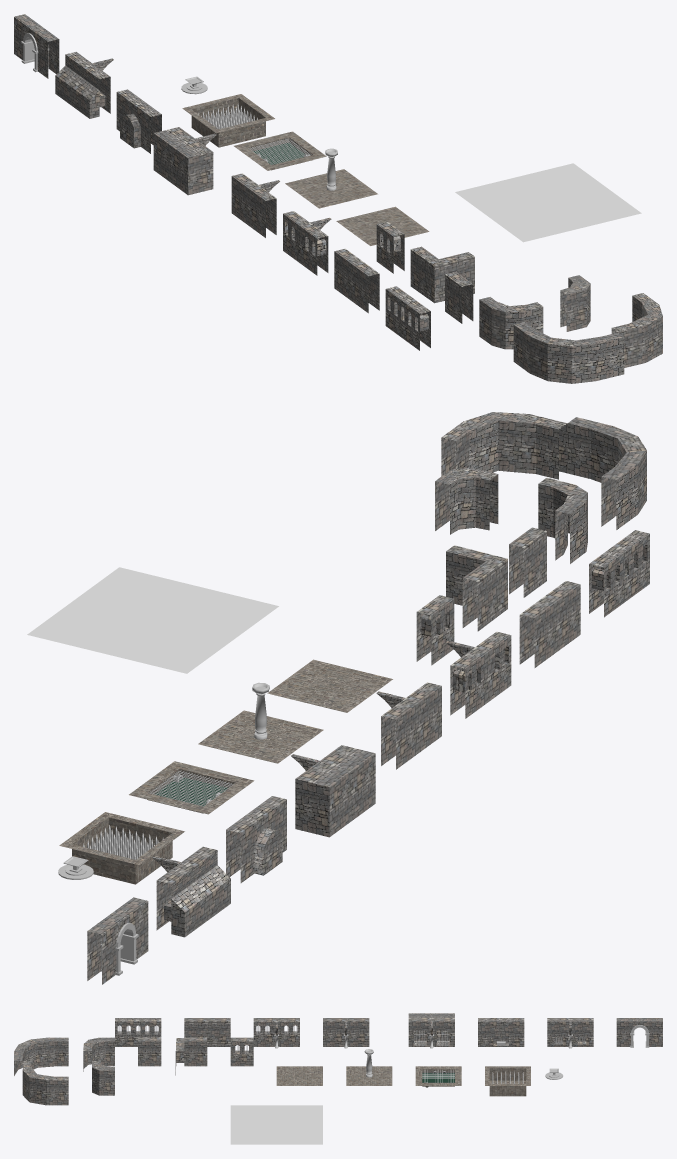
File: dongon_rooms_modular.fbx
3 renders of one model, top to bottom at view 1: azimuth 30°, elevation 25°; view 2: azimuth 150°, elevation 25°; view 3: azimuth 270°, elevation 25°, orthographic. The views are drawn at different scales.
Visible parts, largest first — view 1: AllTextures_mergedObject.018, AllTextures_mergedObject.020, AllTextures_mergedObject.007, AllTextures_mergedObject.012, AllTextures_mergedObject.013, AllTextures_mergedObject.025, AllTextures_mergedObject.011, AllTextures_mergedObject.001, AllTextures_mergedObject.015, AllTextures_mergedObject.010, AllTextures_mergedObject.009, AllTextures_mergedObject.003 (+8 smaller); view 2: AllTextures_mergedObject.018, AllTextures_mergedObject.025, AllTextures_mergedObject.020, AllTextures_mergedObject.007, AllTextures_mergedObject.012, AllTextures_mergedObject.013, AllTextures_mergedObject.001, AllTextures_mergedObject.011, AllTextures_mergedObject.010, AllTextures_mergedObject.009, AllTextures_mergedObject.006, AllTextures_mergedObject.003 (+8 smaller); view 3: AllTextures_mergedObject.018, AllTextures_mergedObject.007, AllTextures_mergedObject.020, AllTextures_mergedObject.025, AllTextures_mergedObject.013, AllTextures_mergedObject.009, AllTextures_mergedObject.006, AllTextures_mergedObject.010, AllTextures_mergedObject.012, AllTextures_mergedObject.002, AllTextures_mergedObject.014, AllTextures_mergedObject.004 (+8 smaller).
Part boxes in pixels (bbox=[...]): AllTextures_mergedObject.018: bbox=[455, 163, 641, 242]; AllTextures_mergedObject.020: bbox=[513, 322, 624, 383]; AllTextures_mergedObject.007: bbox=[153, 127, 216, 195]; AllTextures_mergedObject.012: bbox=[182, 94, 274, 147]; AllTextures_mergedObject.013: bbox=[55, 51, 113, 118]; AllTextures_mergedObject.025: bbox=[611, 293, 662, 367]; AllTextures_mergedObject.011: bbox=[410, 246, 474, 303]; AllTextures_mergedObject.001: bbox=[285, 148, 377, 208]; AllTextures_mergedObject.015: bbox=[479, 297, 543, 349]; AllTextures_mergedObject.010: bbox=[283, 211, 331, 275]; AllTextures_mergedObject.009: bbox=[231, 173, 279, 237]; AllTextures_mergedObject.003: bbox=[234, 131, 326, 170]; AllTextures_mergedObject.018: bbox=[27, 567, 278, 673]; AllTextures_mergedObject.025: bbox=[441, 412, 567, 479]; AllTextures_mergedObject.020: bbox=[567, 417, 646, 529]; AllTextures_mergedObject.007: bbox=[291, 745, 375, 837]; AllTextures_mergedObject.012: bbox=[59, 812, 184, 884]; AllTextures_mergedObject.013: bbox=[152, 846, 230, 937]; AllTextures_mergedObject.001: bbox=[198, 682, 323, 763]; AllTextures_mergedObject.011: bbox=[446, 545, 507, 631]; AllTextures_mergedObject.010: bbox=[446, 631, 511, 718]; AllTextures_mergedObject.009: bbox=[376, 682, 441, 769]; AllTextures_mergedObject.006: bbox=[226, 796, 286, 882]; AllTextures_mergedObject.003: bbox=[129, 761, 254, 814]; AllTextures_mergedObject.018: bbox=[230, 1105, 322, 1144]; AllTextures_mergedObject.007: bbox=[408, 1013, 454, 1048]; AllTextures_mergedObject.020: bbox=[14, 1037, 68, 1075]; AllTextures_mergedObject.025: bbox=[22, 1061, 68, 1105]; AllTextures_mergedObject.013: bbox=[547, 1018, 593, 1048]; AllTextures_mergedObject.009: bbox=[323, 1018, 369, 1048]; AllTextures_mergedObject.006: bbox=[478, 1018, 524, 1046]; AllTextures_mergedObject.010: bbox=[253, 1018, 299, 1048]; AllTextures_mergedObject.012: bbox=[485, 1066, 530, 1096]; AllTextures_mergedObject.002: bbox=[616, 1018, 662, 1047]; AllTextures_mergedObject.014: bbox=[184, 1018, 230, 1046]; AllTextures_mergedObject.004: bbox=[115, 1018, 161, 1046].
Size of the model in its own units: 1085 by 181 by 2807.
